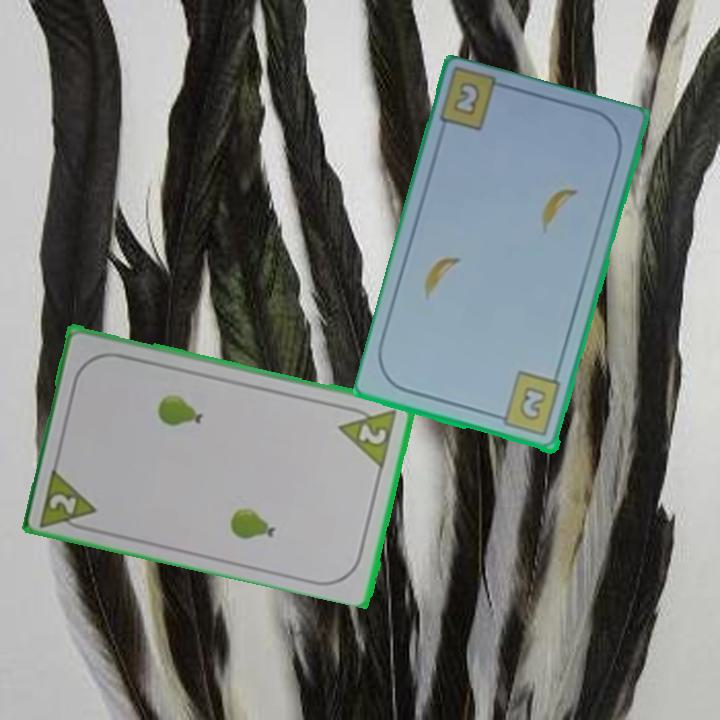2b: (491, 369, 564, 440), (449, 78, 484, 119)
2p: (36, 463, 101, 535), (336, 401, 401, 468)
